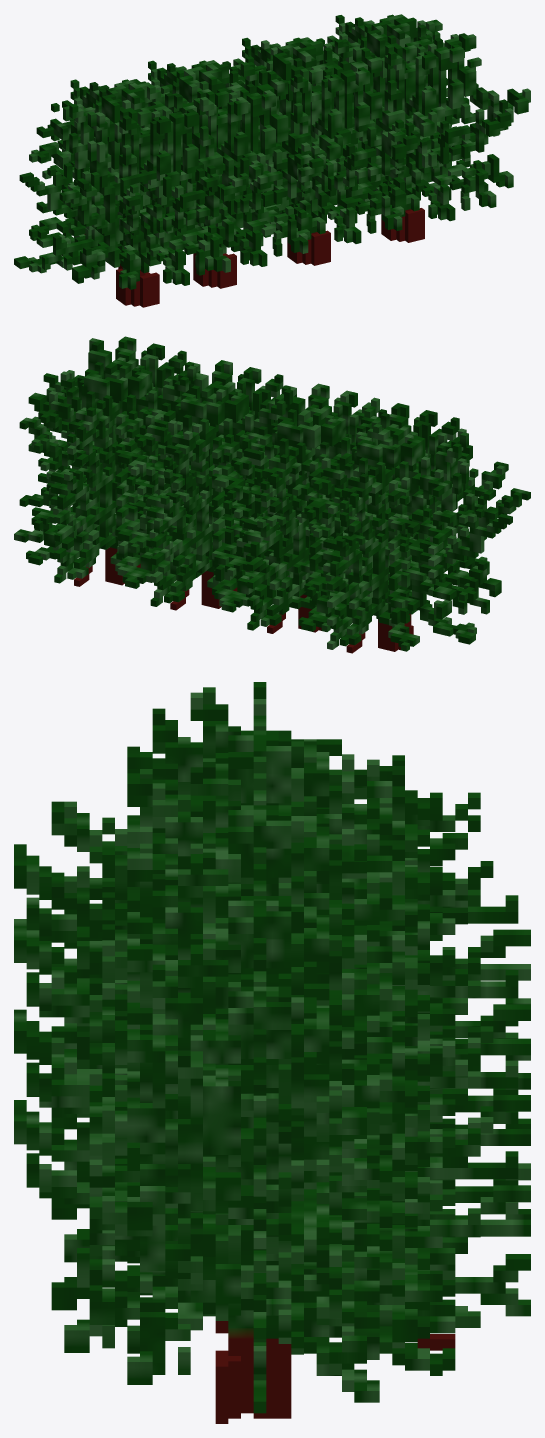
Rendered from SM_Plant_01T.fbx.
3 views of the same model, one above another, from view 1: azimuth 30°, elevation 25°; view 2: azimuth 150°, elevation 25°; view 3: azimuth 270°, elevation 25° (orthographic). The views are drawn at different scales.
Parts seen in each view (by area): view 1: Plant_01T; view 2: Plant_01T; view 3: Plant_01T.
Boxes of the visible parts, <box> form: Plant_01T: <box>14,14,530,307</box>; Plant_01T: <box>14,336,530,653</box>; Plant_01T: <box>14,682,530,1423</box>.
Bounding box in the file's own units: 85 × 36 × 41.
